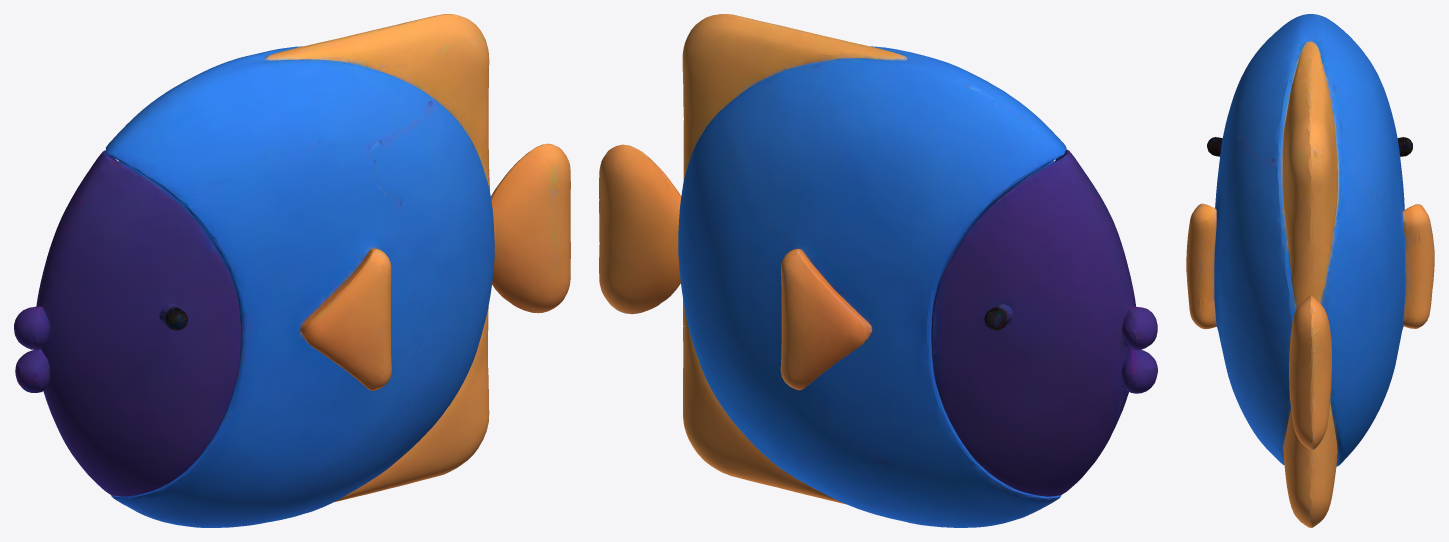
The model's file is tropical-fish.glb.
3 views of the same model, side by side, from view 1: azimuth 30°, elevation 25°; view 2: azimuth 150°, elevation 25°; view 3: azimuth 270°, elevation 25° (orthographic). The views are drawn at different scales.
Parts seen in each view (by area): view 1: Mesh; view 2: Mesh; view 3: Mesh.
Boxes of the visible parts, left/top/right/bottom form: Mesh: left=14, top=14, right=570, bottom=527; Mesh: left=599, top=14, right=1157, bottom=527; Mesh: left=1186, top=14, right=1434, bottom=527.
Size of the model in its own units: 1 by 0.7943 by 0.4371.
Materials: 1 (1 with a texture image).
